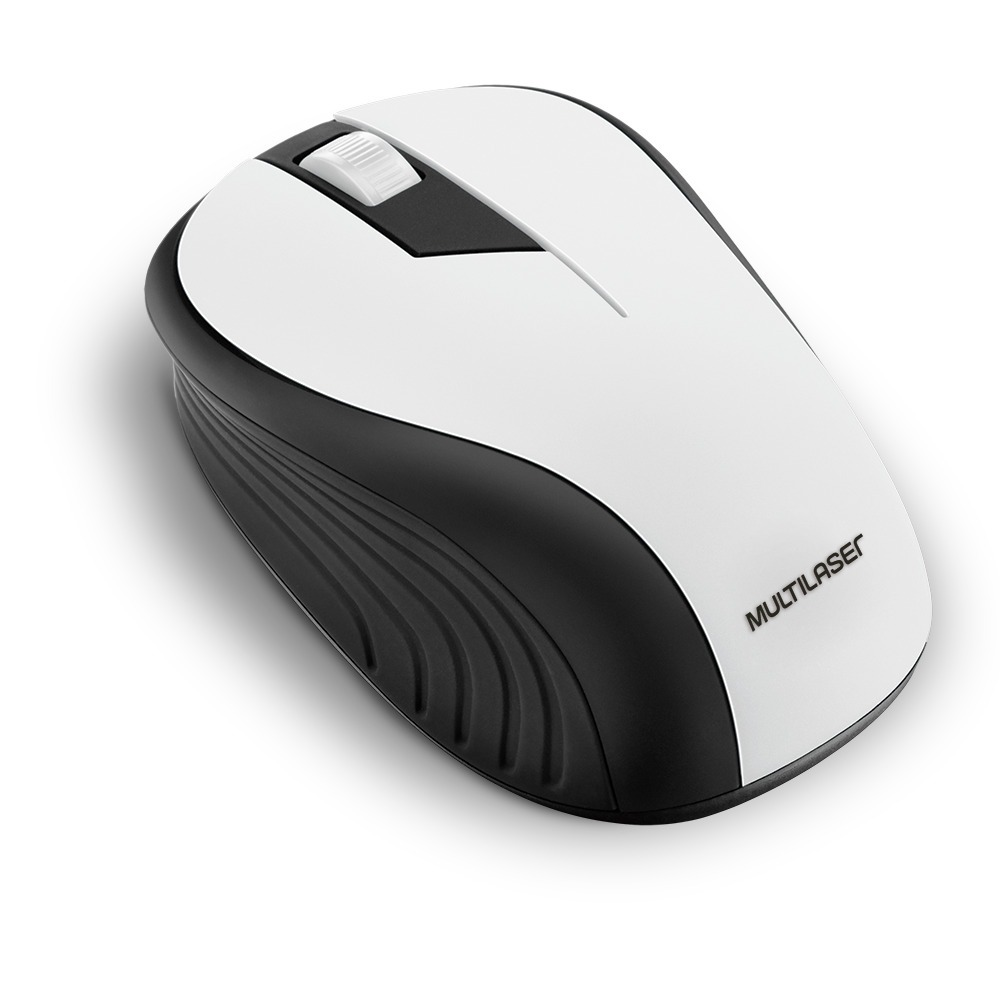mouse: (115, 72, 950, 845)
